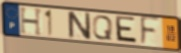1: (43, 8, 55, 38)
E: (115, 15, 139, 45)
F: (139, 15, 161, 47)
H: (19, 7, 45, 37)
N: (66, 10, 93, 41)
Q: (92, 14, 114, 41)
